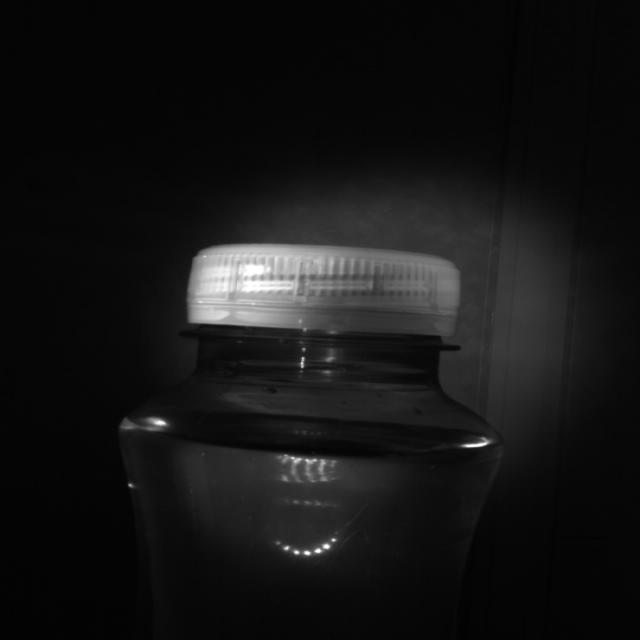Good: (183, 240, 466, 342)
